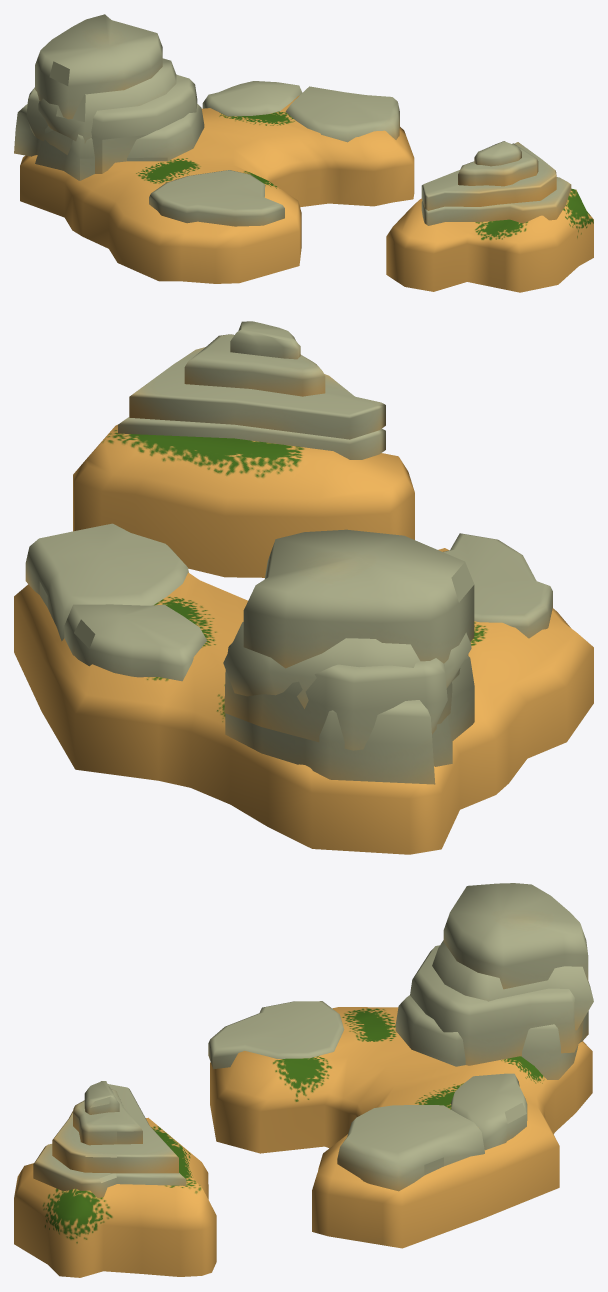
File: Ile Sud Est .fbx
3 renders of one model, top to bottom at view 1: azimuth 30°, elevation 25°; view 2: azimuth 150°, elevation 25°; view 3: azimuth 270°, elevation 25°, orthographic. The views are drawn at different scales.
Parts seen in each view (by area): view 1: Ile_Sud_Est; view 2: Ile_Sud_Est; view 3: Ile_Sud_Est.
Part boxes in pixels (x1,y1,x2,y2): Ile_Sud_Est: [14, 14, 593, 292]; Ile_Sud_Est: [14, 321, 593, 854]; Ile_Sud_Est: [14, 883, 593, 1277].
Size of the model in its own units: 156 by 59.81 by 173.
Materials: 1 (1 with a texture image).
